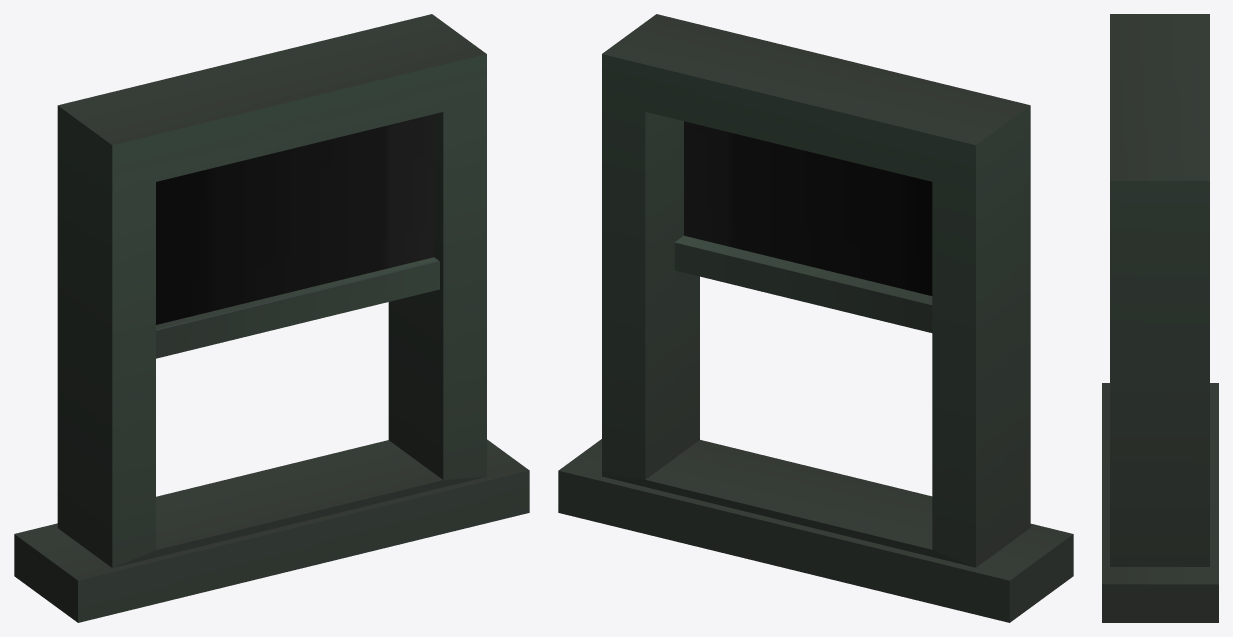
Rendered from Window.fbx.
3 views of the same model, side by side, from view 1: azimuth 30°, elevation 25°; view 2: azimuth 150°, elevation 25°; view 3: azimuth 270°, elevation 25° (orthographic). The views are drawn at different scales.
Parts seen in each view (by area): view 1: WindowFrame; view 2: WindowFrame; view 3: WindowFrame.
Part boxes in pixels (x1,y1,x2,y2): WindowFrame: (14, 14, 529, 622); WindowFrame: (558, 14, 1073, 622); WindowFrame: (1102, 14, 1218, 622).
Bounding box in the file's own units: 141 × 139 × 34.53.
